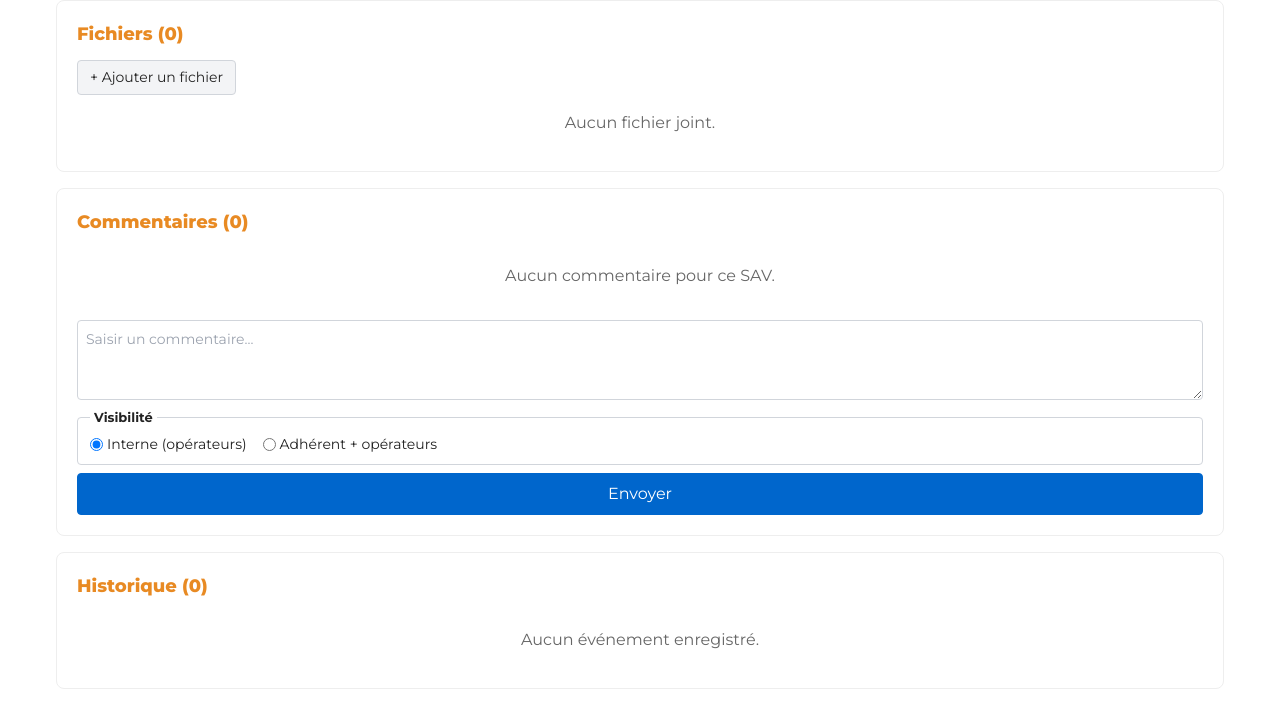
Test: SavDetailView — ComposeCommentForm inline (Story 3.7b AC#14) › SC-02: submit POST + append optimistic avec sentinel id puis remplacement par id réel
(page scrolled)
In the text box named "Nouveau commentaire": coordinates (640, 360) [77, 320, 1203, 400], type "Test comment"
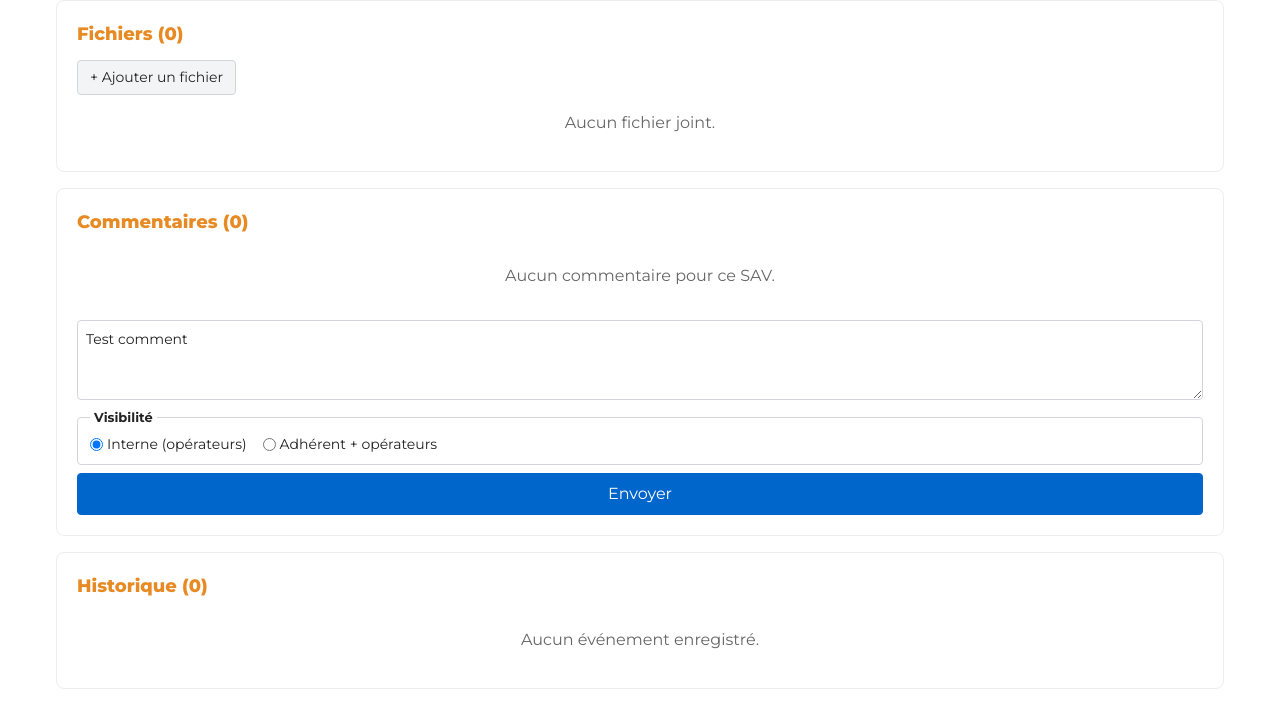
Submit the form, box [77, 320, 1203, 514]
(page scrolled)
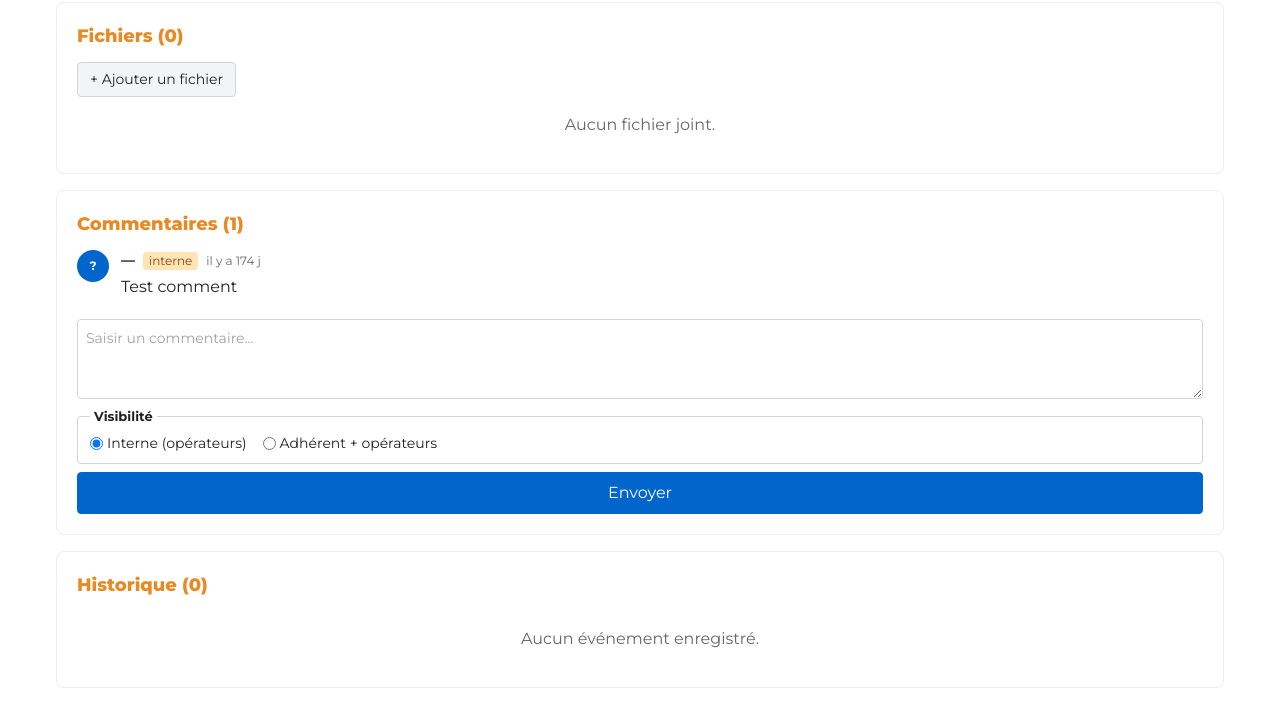
Now the text "Test comment" is shown, box [121, 277, 237, 296]
